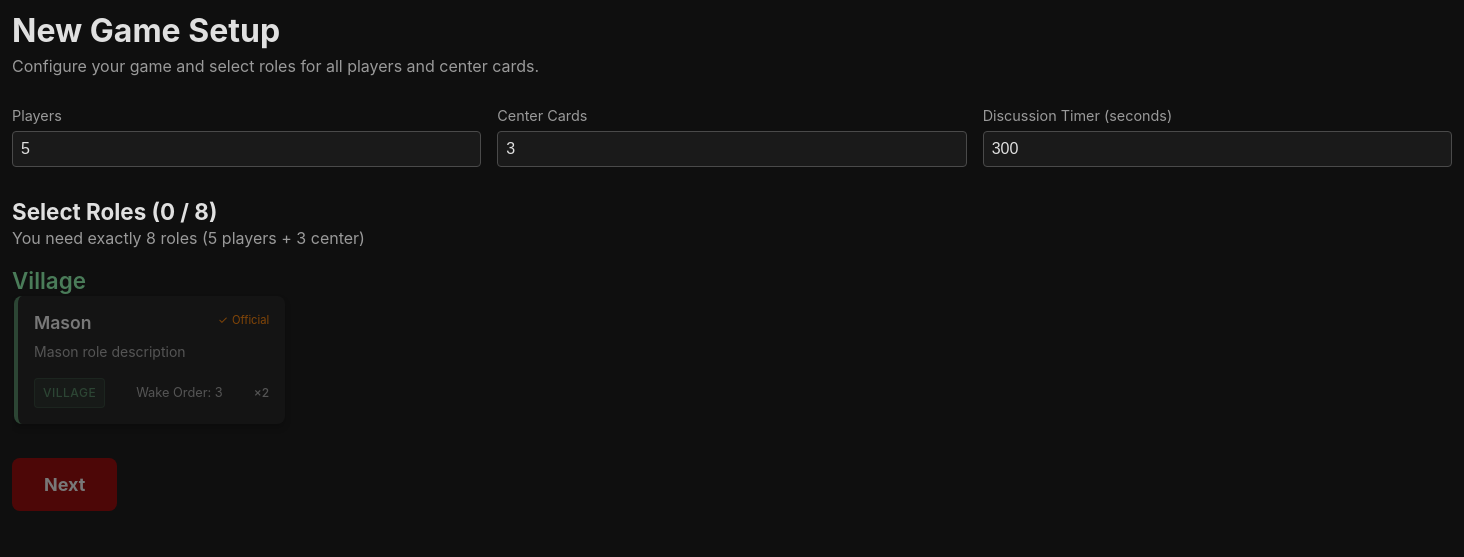
GameSetupPage › multi-copy role selection › Mason (min=max=2) adds 2 and removes 2 atomically; no +/- buttons visible
Click the text "Mason" at point(150, 360), box 12,294 -> 287,426
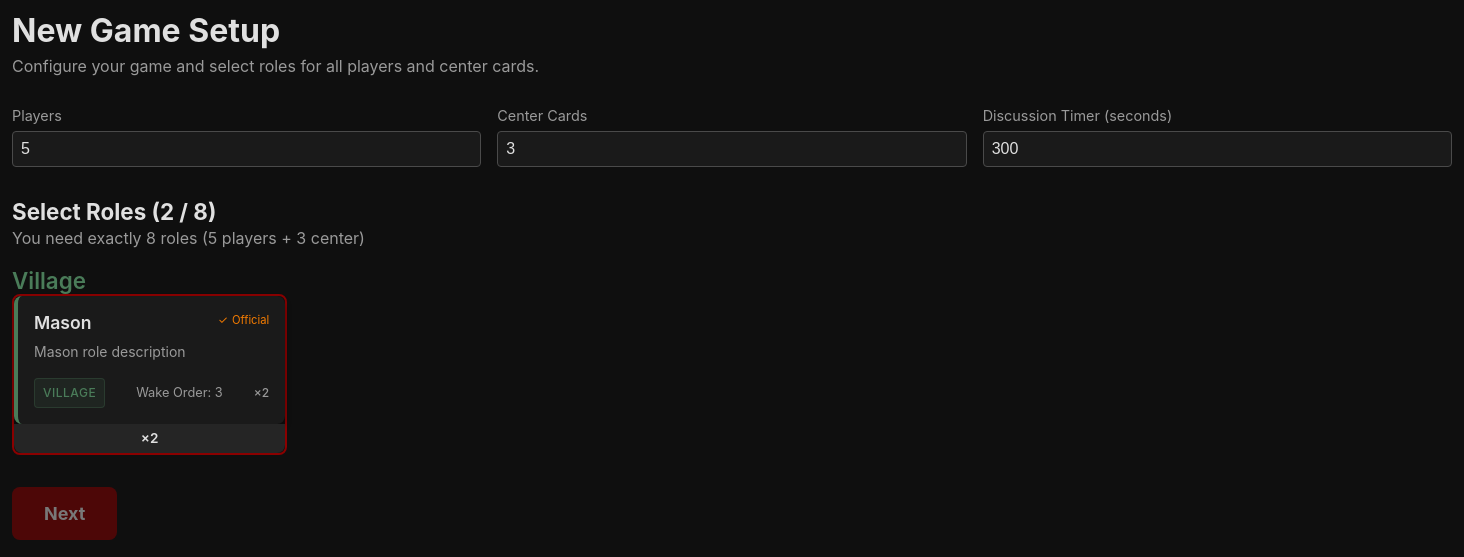
expect the heading "Select Roles (2 / 8)" is shown: met, box 12,198 -> 216,225
Click the text "Mason" at point(150, 375), box 12,294 -> 287,455
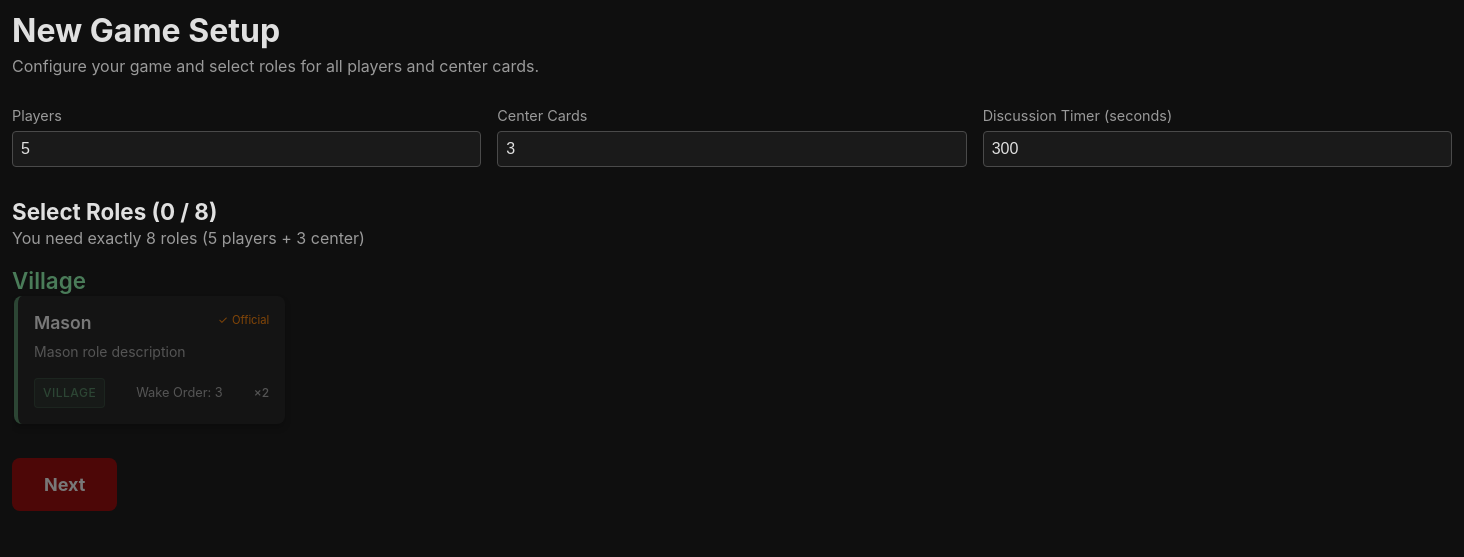
expect the heading "Select Roles (0 / 8)" is shown: met, box 12,198 -> 217,225
